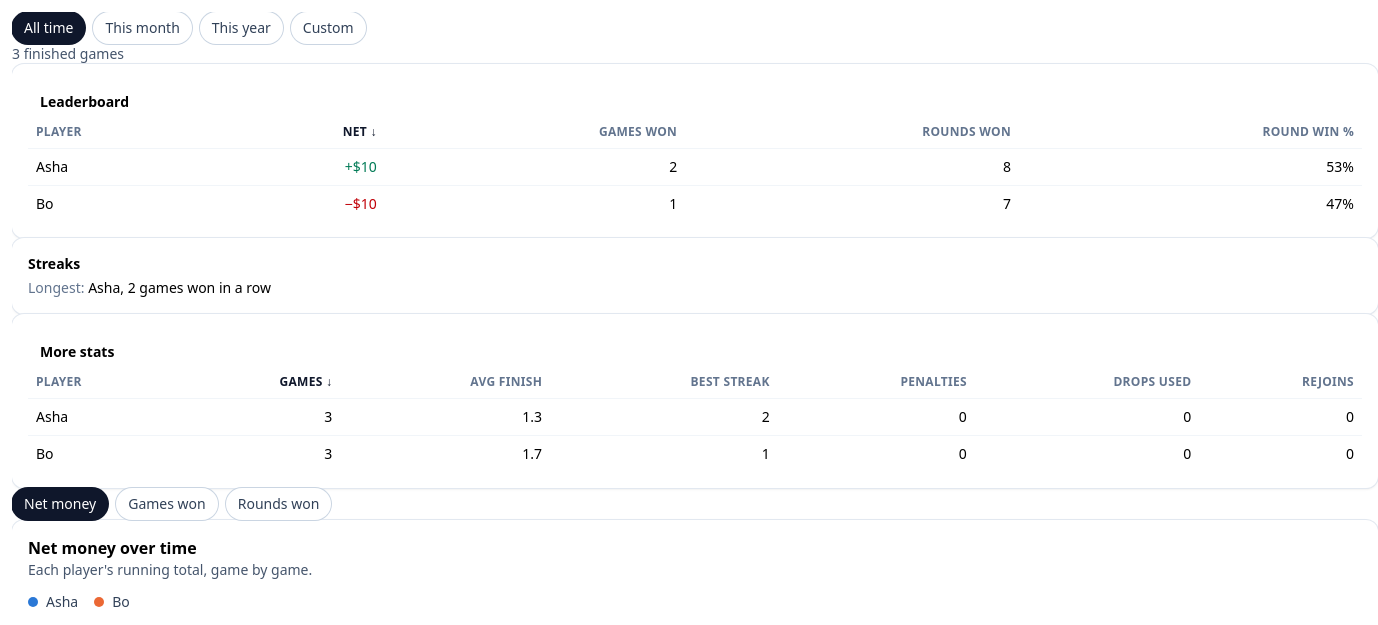
Test: the stats tab › has one chart, with a switch between net money, games won and rounds won
This screenshot has width=1378, height=625.
Expected: the number of headings "Net money over time" is 1, [28,537,197,559]
Click the 2nd button "Rounds won" at (278, 504), box [226,488,331,520]
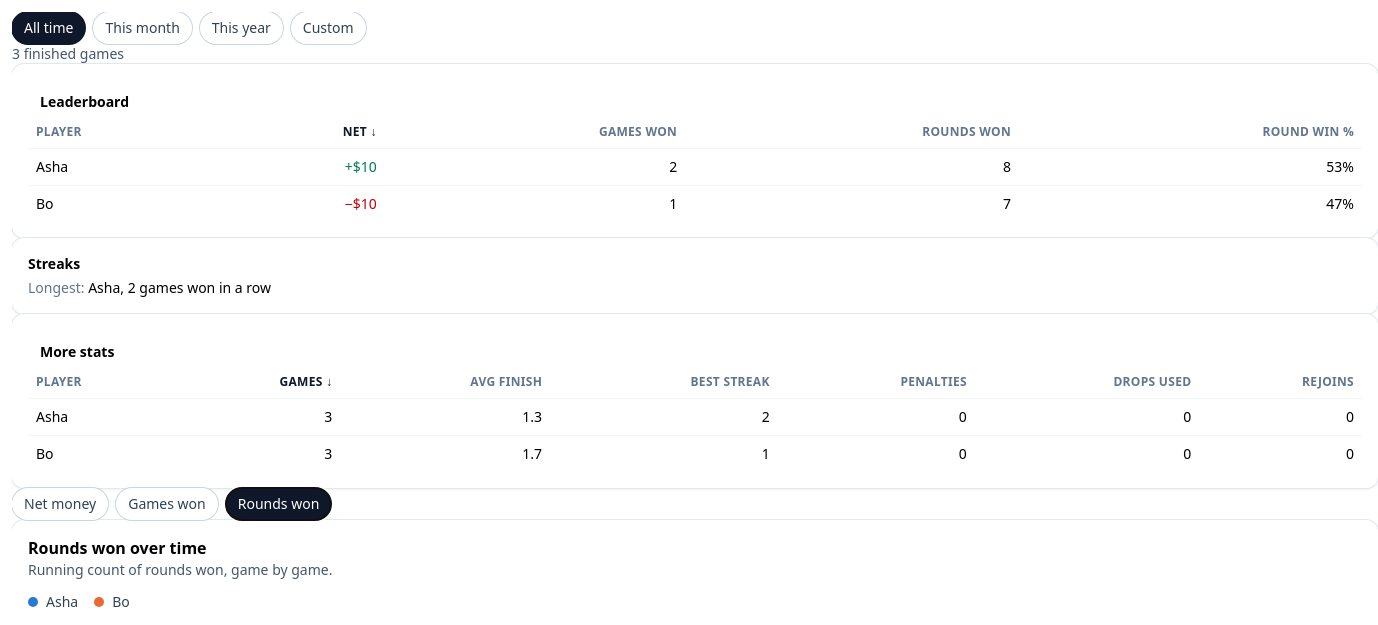
Expected: the number of headings "Rounds won over time" is 1, [28,537,207,559]
Expected: the heading "Rounds won over time" is shown, [28,537,207,559]
Click the 2nd button "Games won" at (167, 504), box [116,488,218,520]
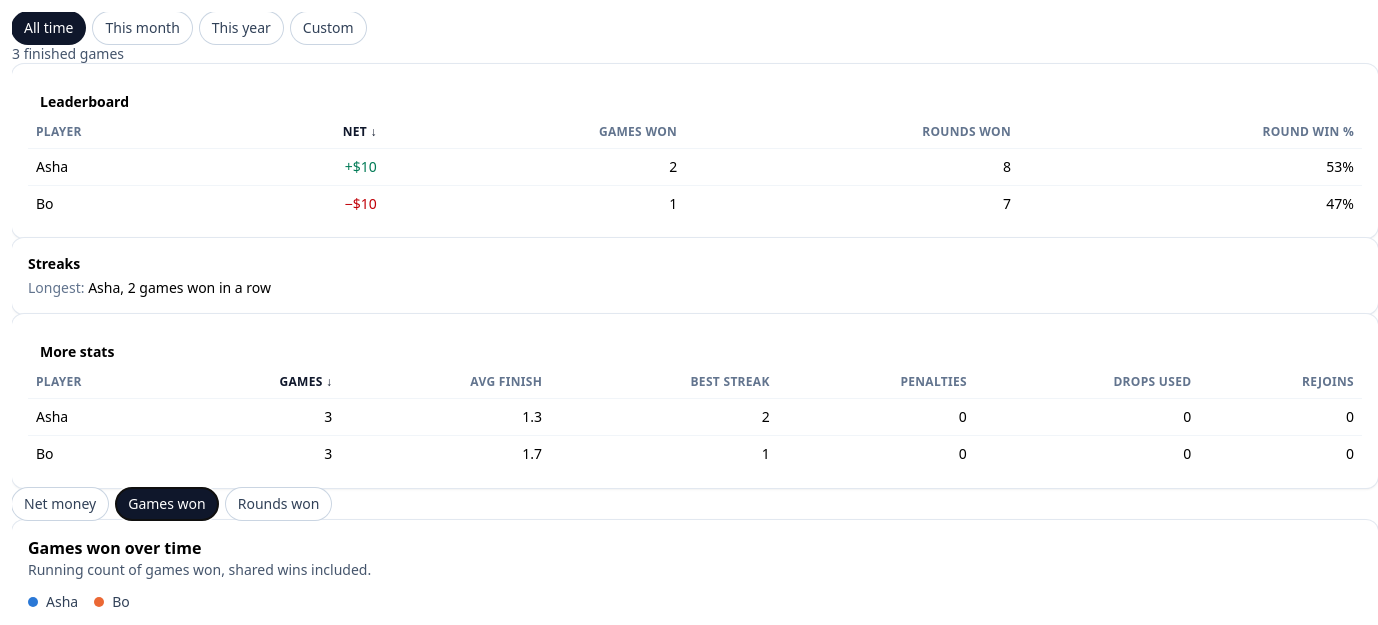
Expected: the heading "Games won over time" is shown, [28,537,201,559]
